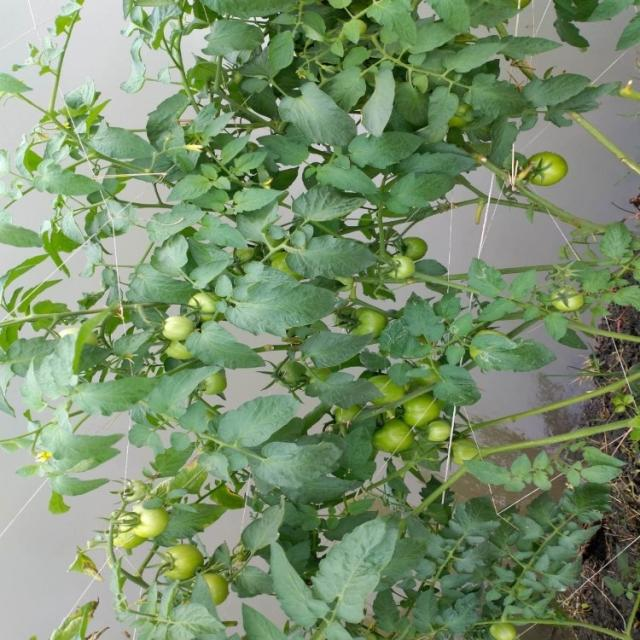tomato: (160, 540, 199, 593), (397, 386, 442, 430), (132, 502, 170, 543), (375, 418, 411, 460), (530, 150, 569, 188), (194, 572, 232, 611), (341, 307, 390, 337), (371, 369, 408, 408), (108, 515, 148, 551), (551, 285, 593, 316), (191, 287, 225, 325), (276, 357, 312, 385), (396, 237, 439, 260), (119, 478, 154, 505), (387, 256, 419, 285), (163, 314, 197, 336), (447, 440, 473, 468), (204, 374, 234, 398), (168, 340, 192, 368), (488, 620, 521, 640), (430, 422, 451, 451)
